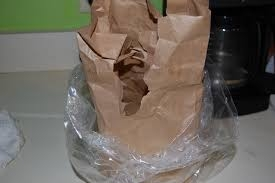paper: (72, 1, 215, 163)
plastic: (59, 118, 241, 183)
